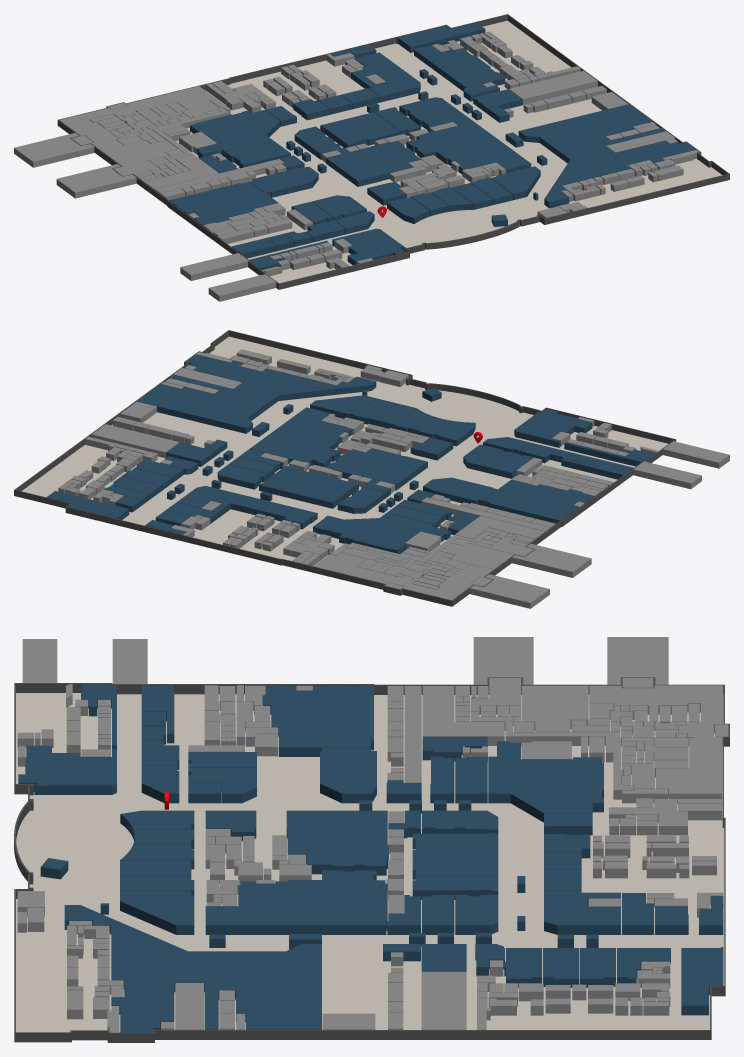
The model's file is first_floor.gltf.
3 views of the same model, one above another, from view 1: azimuth 30°, elevation 25°; view 2: azimuth 150°, elevation 25°; view 3: azimuth 270°, elevation 25° (orthographic). The views are drawn at different scales.
Visible parts, largest first — view 1: ff_ground, ff_frame, ff_g-35-36-37.001, ff_tr_b.043, ff_g-10.001, ff_tr_g.002, ff_tr_g.001, ff_tr_d.031, ff_g-17.001, ff_g-27.001, ff_tr_b.039, ff_tr_g.003 (+50 smaller); view 2: ff_ground, ff_frame, ff_g-35-36-37.001, ff_g-10.001, ff_tr_b.043, ff_tr_g.002, ff_tr_g.001, ff_tr_d.031, ff_g-17.001, ff_tr_b.039, ff_tr_g.003, ff_tr_g.004 (+54 smaller); view 3: ff_ground, ff_g-35-36-37.001, ff_frame, ff_tr_b.043, ff_g-10.001, ff_g-17.001, ff_tr_b.039, ff_tr_g.002, ff_tr_d.031, ff_g-40.001, ff_tr_g.001, ff_tr_g (+69 smaller).
Part boxes in pixels (box(x1,y1,x2,y2)): ff_ground: box(176, 20, 721, 283); ff_frame: box(57, 14, 729, 289); ff_g-35-36-37.001: box(518, 104, 695, 186); ff_tr_b.043: box(59, 86, 215, 150); ff_g-10.001: box(169, 182, 278, 225); ff_tr_g.002: box(14, 133, 94, 167); ff_tr_g.001: box(56, 164, 136, 198); ff_tr_d.031: box(509, 70, 597, 105); ff_g-17.001: box(196, 121, 280, 157); ff_g-27.001: box(396, 22, 485, 52); ff_tr_b.039: box(102, 140, 177, 166); ff_tr_g.003: box(180, 253, 248, 280); ff_ground: box(22, 336, 668, 566); ff_frame: box(14, 330, 676, 606); ff_g-35-36-37.001: box(136, 354, 336, 433); ff_g-10.001: box(483, 479, 594, 523); ff_tr_b.043: box(313, 553, 492, 600); ff_tr_g.002: box(470, 574, 549, 608); ff_tr_g.001: box(512, 543, 591, 577); ff_tr_d.031: box(91, 424, 179, 458); ff_g-17.001: box(345, 513, 450, 541); ff_tr_b.039: box(440, 543, 513, 569); ff_tr_g.003: box(633, 461, 701, 489); ff_tr_g.004: box(663, 441, 729, 468); ff_ground: box(16, 693, 724, 1032); ff_g-35-36-37.001: box(111, 922, 321, 1032); ff_frame: box(14, 677, 729, 1042); ff_tr_b.043: box(589, 685, 722, 803); ff_g-10.001: box(262, 685, 373, 756); ff_g-17.001: box(488, 741, 543, 822); ff_tr_b.039: box(521, 685, 588, 732); ff_tr_g.002: box(607, 637, 668, 684); ff_tr_d.031: box(421, 971, 466, 1029); ff_g-40.001: box(120, 890, 194, 934); ff_tr_g.001: box(473, 637, 533, 684); ff_tr_g: box(422, 686, 504, 745).
Size of the model in its own units: 3.58 by 0.0734 by 2.73.
